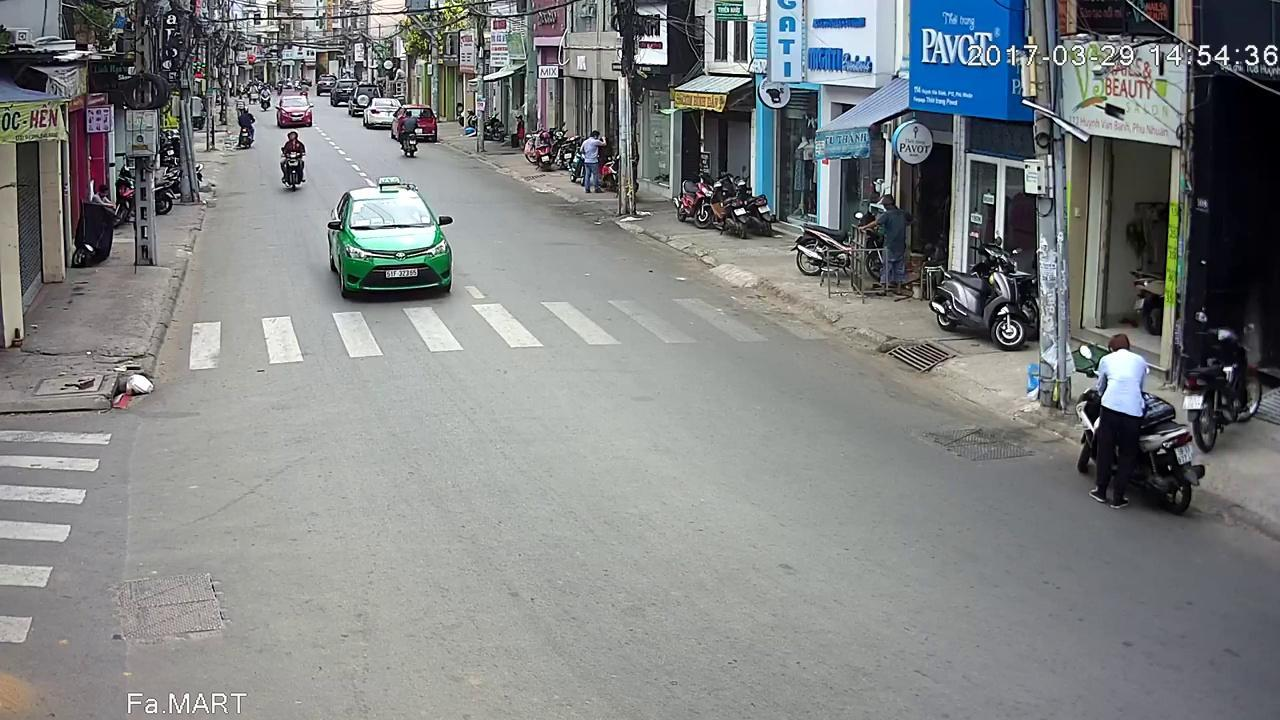xe hoi: (326, 172, 451, 293), (392, 100, 438, 140)
xe may: (1078, 342, 1210, 523), (281, 134, 311, 198)
